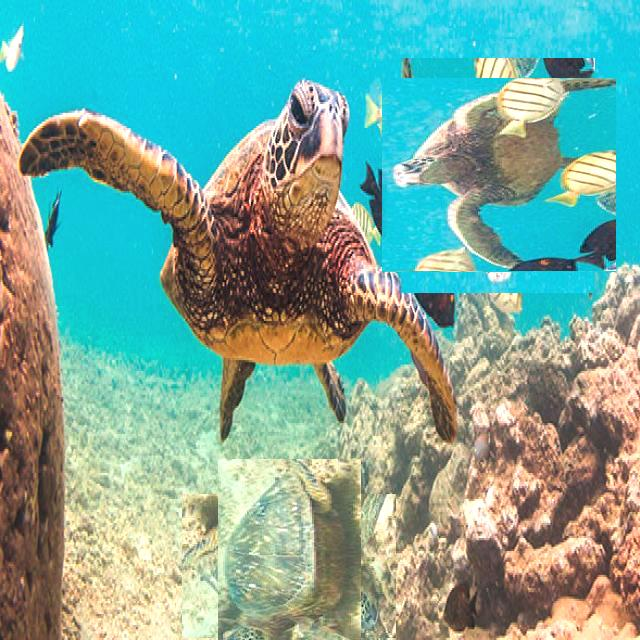Sea turtle: (22, 63, 458, 447), (391, 68, 606, 283), (200, 476, 379, 640)
